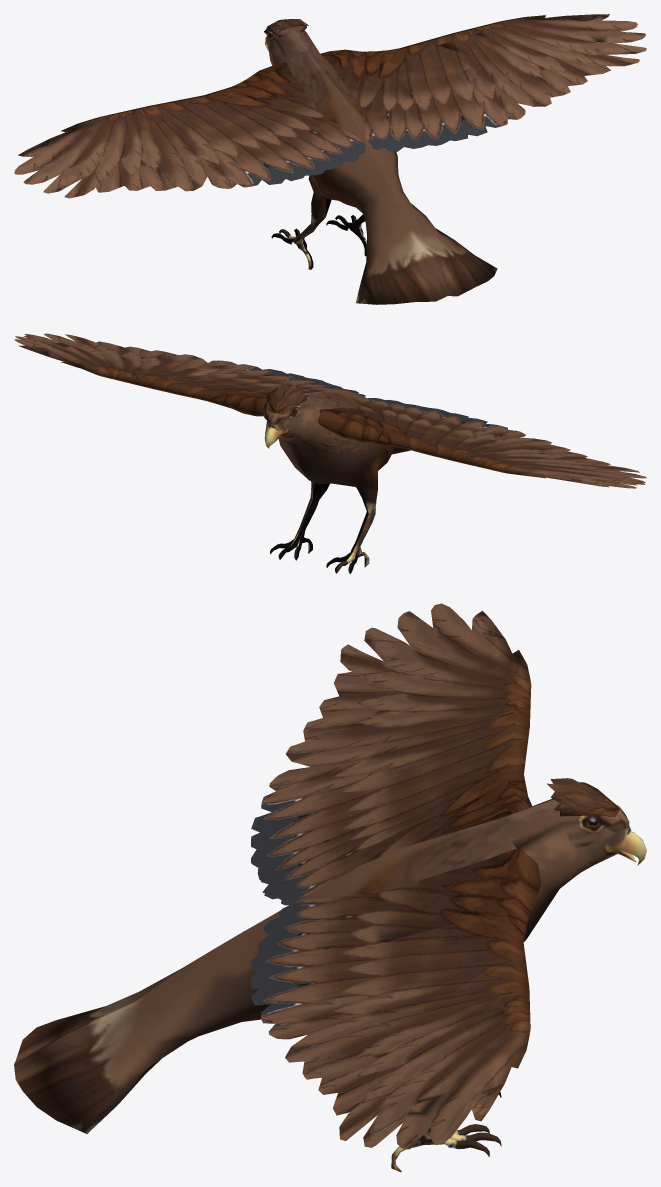
Rendered from Hawk.obj.
3 renders of one model, top to bottom at view 1: azimuth 30°, elevation 25°; view 2: azimuth 150°, elevation 25°; view 3: azimuth 270°, elevation 25°, orthographic. The views are drawn at different scales.
Parts seen in each view (by area): view 1: polySurface4.001; view 2: polySurface4.001; view 3: polySurface4.001.
Part boxes in pixels (bbox=[...]): polySurface4.001: bbox=[14, 14, 646, 304]; polySurface4.001: bbox=[14, 333, 646, 573]; polySurface4.001: bbox=[14, 603, 646, 1172].
Bounding box in the file's own units: 3.14 × 1.01 × 1.58.
